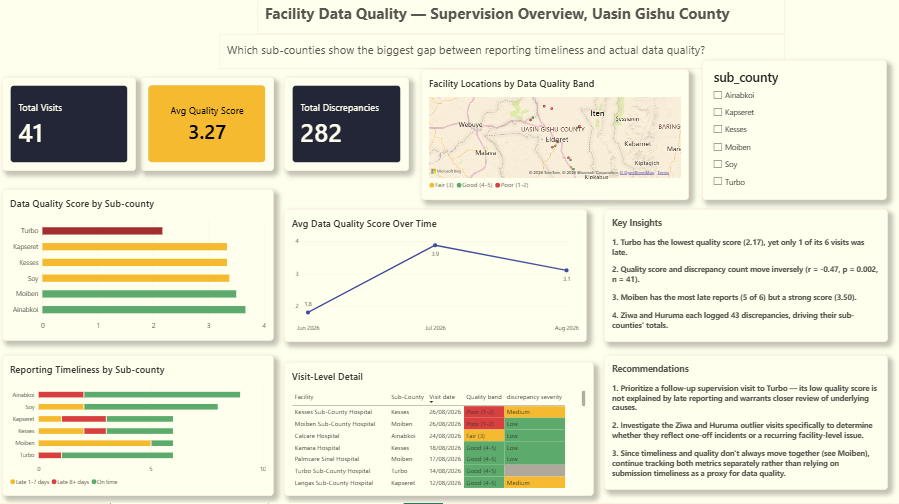

Layout of this report page (visuals, bound fields, positions):
{"tool":"powerbi","page":{"name":"supervision_overview","canvas":[1920,1080],"ordinal":0},"visuals":[{"type":"cardVisual","fields":{"Data":["public facility_visits.Avg Quality Score"]},"box":[304,174.3,284.9,199.8],"z":0},{"type":"barChart","title":"Reporting Timeliness by Sub-county","fields":{"Y":["CountNonNull(public facility_visits.reporting_status)"],"Category":["public facility_visits.sub_county"],"Series":["public facility_visits.reporting_status"]},"box":[10.6,765.4,578.3,299.8],"z":1000},{"type":"tableEx","title":"Visit-Level Detail","fields":{"Values":["public facility_visits.facility_name","public facility_visits.sub_county","public facility_visits.visit_date","public facility_visits.quality_band","public facility_visits.discrepancy_severity"]},"box":[610.2,780.2,659.1,284.9],"z":2000},{"type":"barChart","title":"Data Quality Score by Sub-county","fields":{"Y":["public facility_visits.Avg Quality Score"],"Category":["public facility_visits.sub_county"]},"box":[10.6,412.4,578.3,323.1],"z":3000},{"type":"lineChart","title":"Avg Data Quality Score Over Time","fields":{"Category":["public facility_visits.visit_month_date"],"Y":["public facility_visits.Avg Quality Score"]},"box":[610.2,455,644.2,282.8],"z":4000},{"type":"textbox","box":[552.8,0,1122.5,82.9],"z":5000},{"type":"textbox","box":[472,82.9,1203.3,74.4],"z":6000},{"type":"cardVisual","fields":{"Data":["public facility_visits.Total Discrepancies"]},"box":[610.2,174.3,265.7,199.8],"z":7000},{"type":"cardVisual","fields":{"Data":["public facility_visits.Total Visits"]},"box":[10.6,174.3,284.9,199.8],"z":8000},{"type":"textbox","box":[1290.5,455,603.8,282.8],"z":9000},{"type":"textbox","box":[1290.5,765.4,603.8,287],"z":10000},{"type":"slicer","fields":{"Values":["public facility_visits.sub_county"]},"box":[1500.9,138.2,393.3,297.6],"z":11000},{"type":"map","title":"Facility Locations by Data Quality Band","fields":{"Y":["public vw_facility_latest_visit.gps_lat"],"X":["public vw_facility_latest_visit.gps_lon"],"Series":["public vw_facility_latest_visit.quality_band"]},"box":[901.4,157.3,569.8,278.5],"z":12000}]}

Visuals, with their boxes in screenshot pixels (x1, y1, x2, y2), scaled from the page's 1920x1080 canvas onto the 899x504 screenshot:
cardVisual - public facility_visits.Avg Quality Score: l=142, t=81, r=276, b=175
"Reporting Timeliness by Sub-county" barChart: l=5, t=357, r=276, b=497
"Visit-Level Detail" tableEx: l=286, t=364, r=594, b=497
"Data Quality Score by Sub-county" barChart: l=5, t=192, r=276, b=343
"Avg Data Quality Score Over Time" lineChart: l=286, t=212, r=587, b=344
textbox: l=259, t=0, r=784, b=39
textbox: l=221, t=39, r=784, b=73
cardVisual - public facility_visits.Total Discrepancies: l=286, t=81, r=410, b=175
cardVisual - public facility_visits.Total Visits: l=5, t=81, r=138, b=175
textbox: l=604, t=212, r=887, b=344
textbox: l=604, t=357, r=887, b=491
slicer - public facility_visits.sub_county: l=703, t=64, r=887, b=203
"Facility Locations by Data Quality Band" map: l=422, t=73, r=689, b=203
